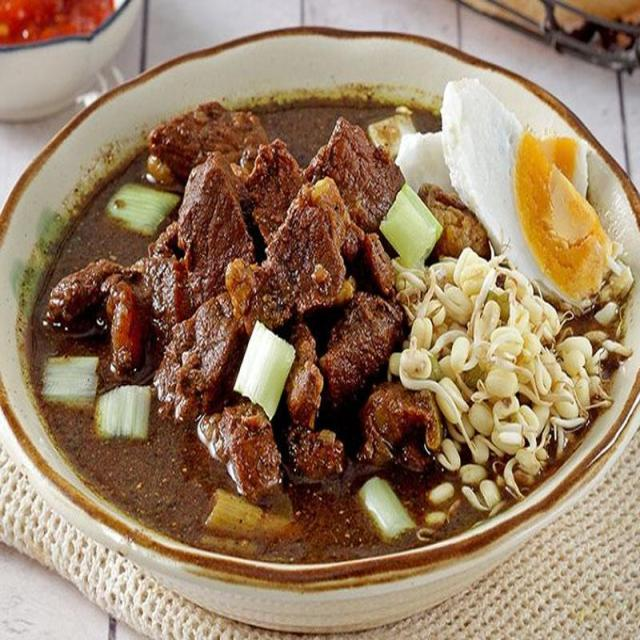Rawon: (43, 98, 578, 554)
